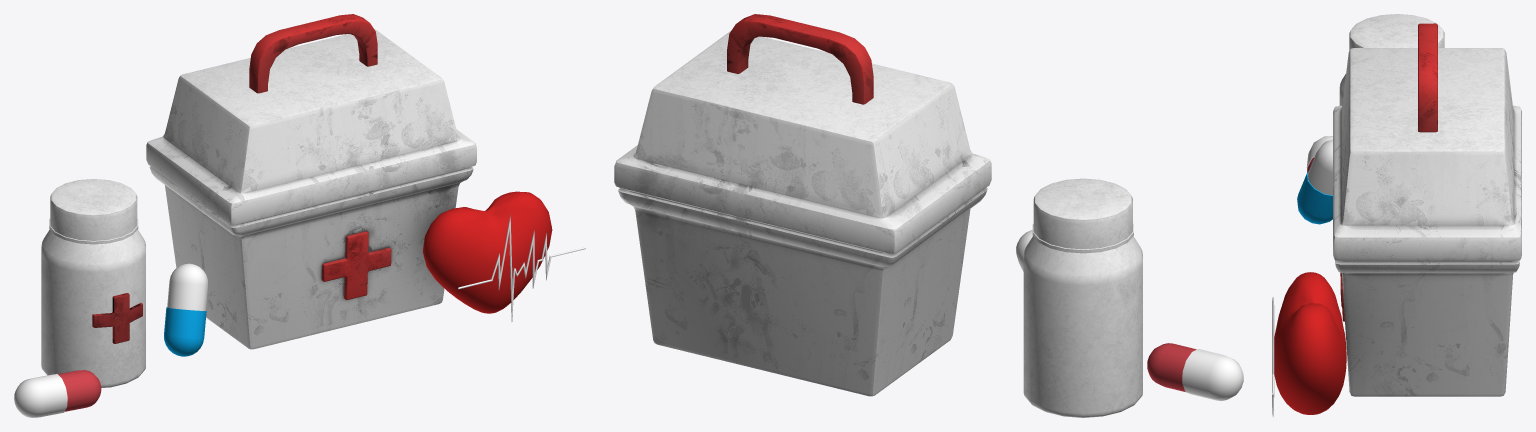
The model's file is Emergency_Kit.fbx.
3 views of the same model, side by side, from view 1: azimuth 30°, elevation 25°; view 2: azimuth 150°, elevation 25°; view 3: azimuth 270°, elevation 25° (orthographic). The views are drawn at different scales.
Parts seen in each view (by area): view 1: Kit_box, Medicine, Heart, Capsule_Blue, Capsule_Pink; view 2: Kit_box, Medicine, Capsule_Pink; view 3: Kit_box, Heart, Medicine, Capsule_Blue, Capsule_Pink.
Part boxes in pixels (box(x1,y1,x2,y2)): Kit_box: box(146, 14, 476, 349); Medicine: box(41, 179, 145, 387); Heart: box(423, 191, 585, 321); Capsule_Blue: box(164, 263, 207, 356); Capsule_Pink: box(14, 370, 101, 417); Kit_box: box(614, 14, 991, 396); Medicine: box(1023, 178, 1142, 417); Capsule_Pink: box(1147, 343, 1243, 400); Kit_box: box(1333, 23, 1521, 396); Heart: box(1272, 272, 1346, 417); Medicine: box(1339, 14, 1444, 105); Capsule_Blue: box(1297, 139, 1332, 224); Capsule_Pink: box(1306, 136, 1332, 172).
Size of the model in its own units: 315 by 155 by 115.
Materials: 6 (2 with a texture image).
